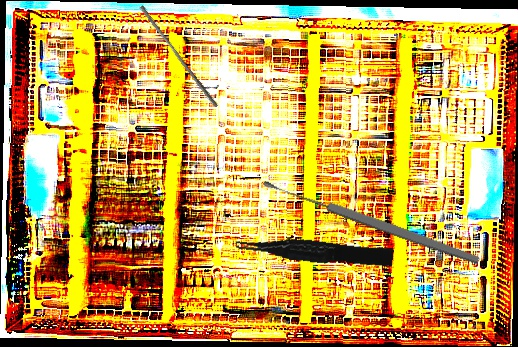Pusher: (135, 4, 223, 109)
Surgical Spoon: (260, 175, 483, 268)
Tissue Forceps: (235, 227, 394, 274)
